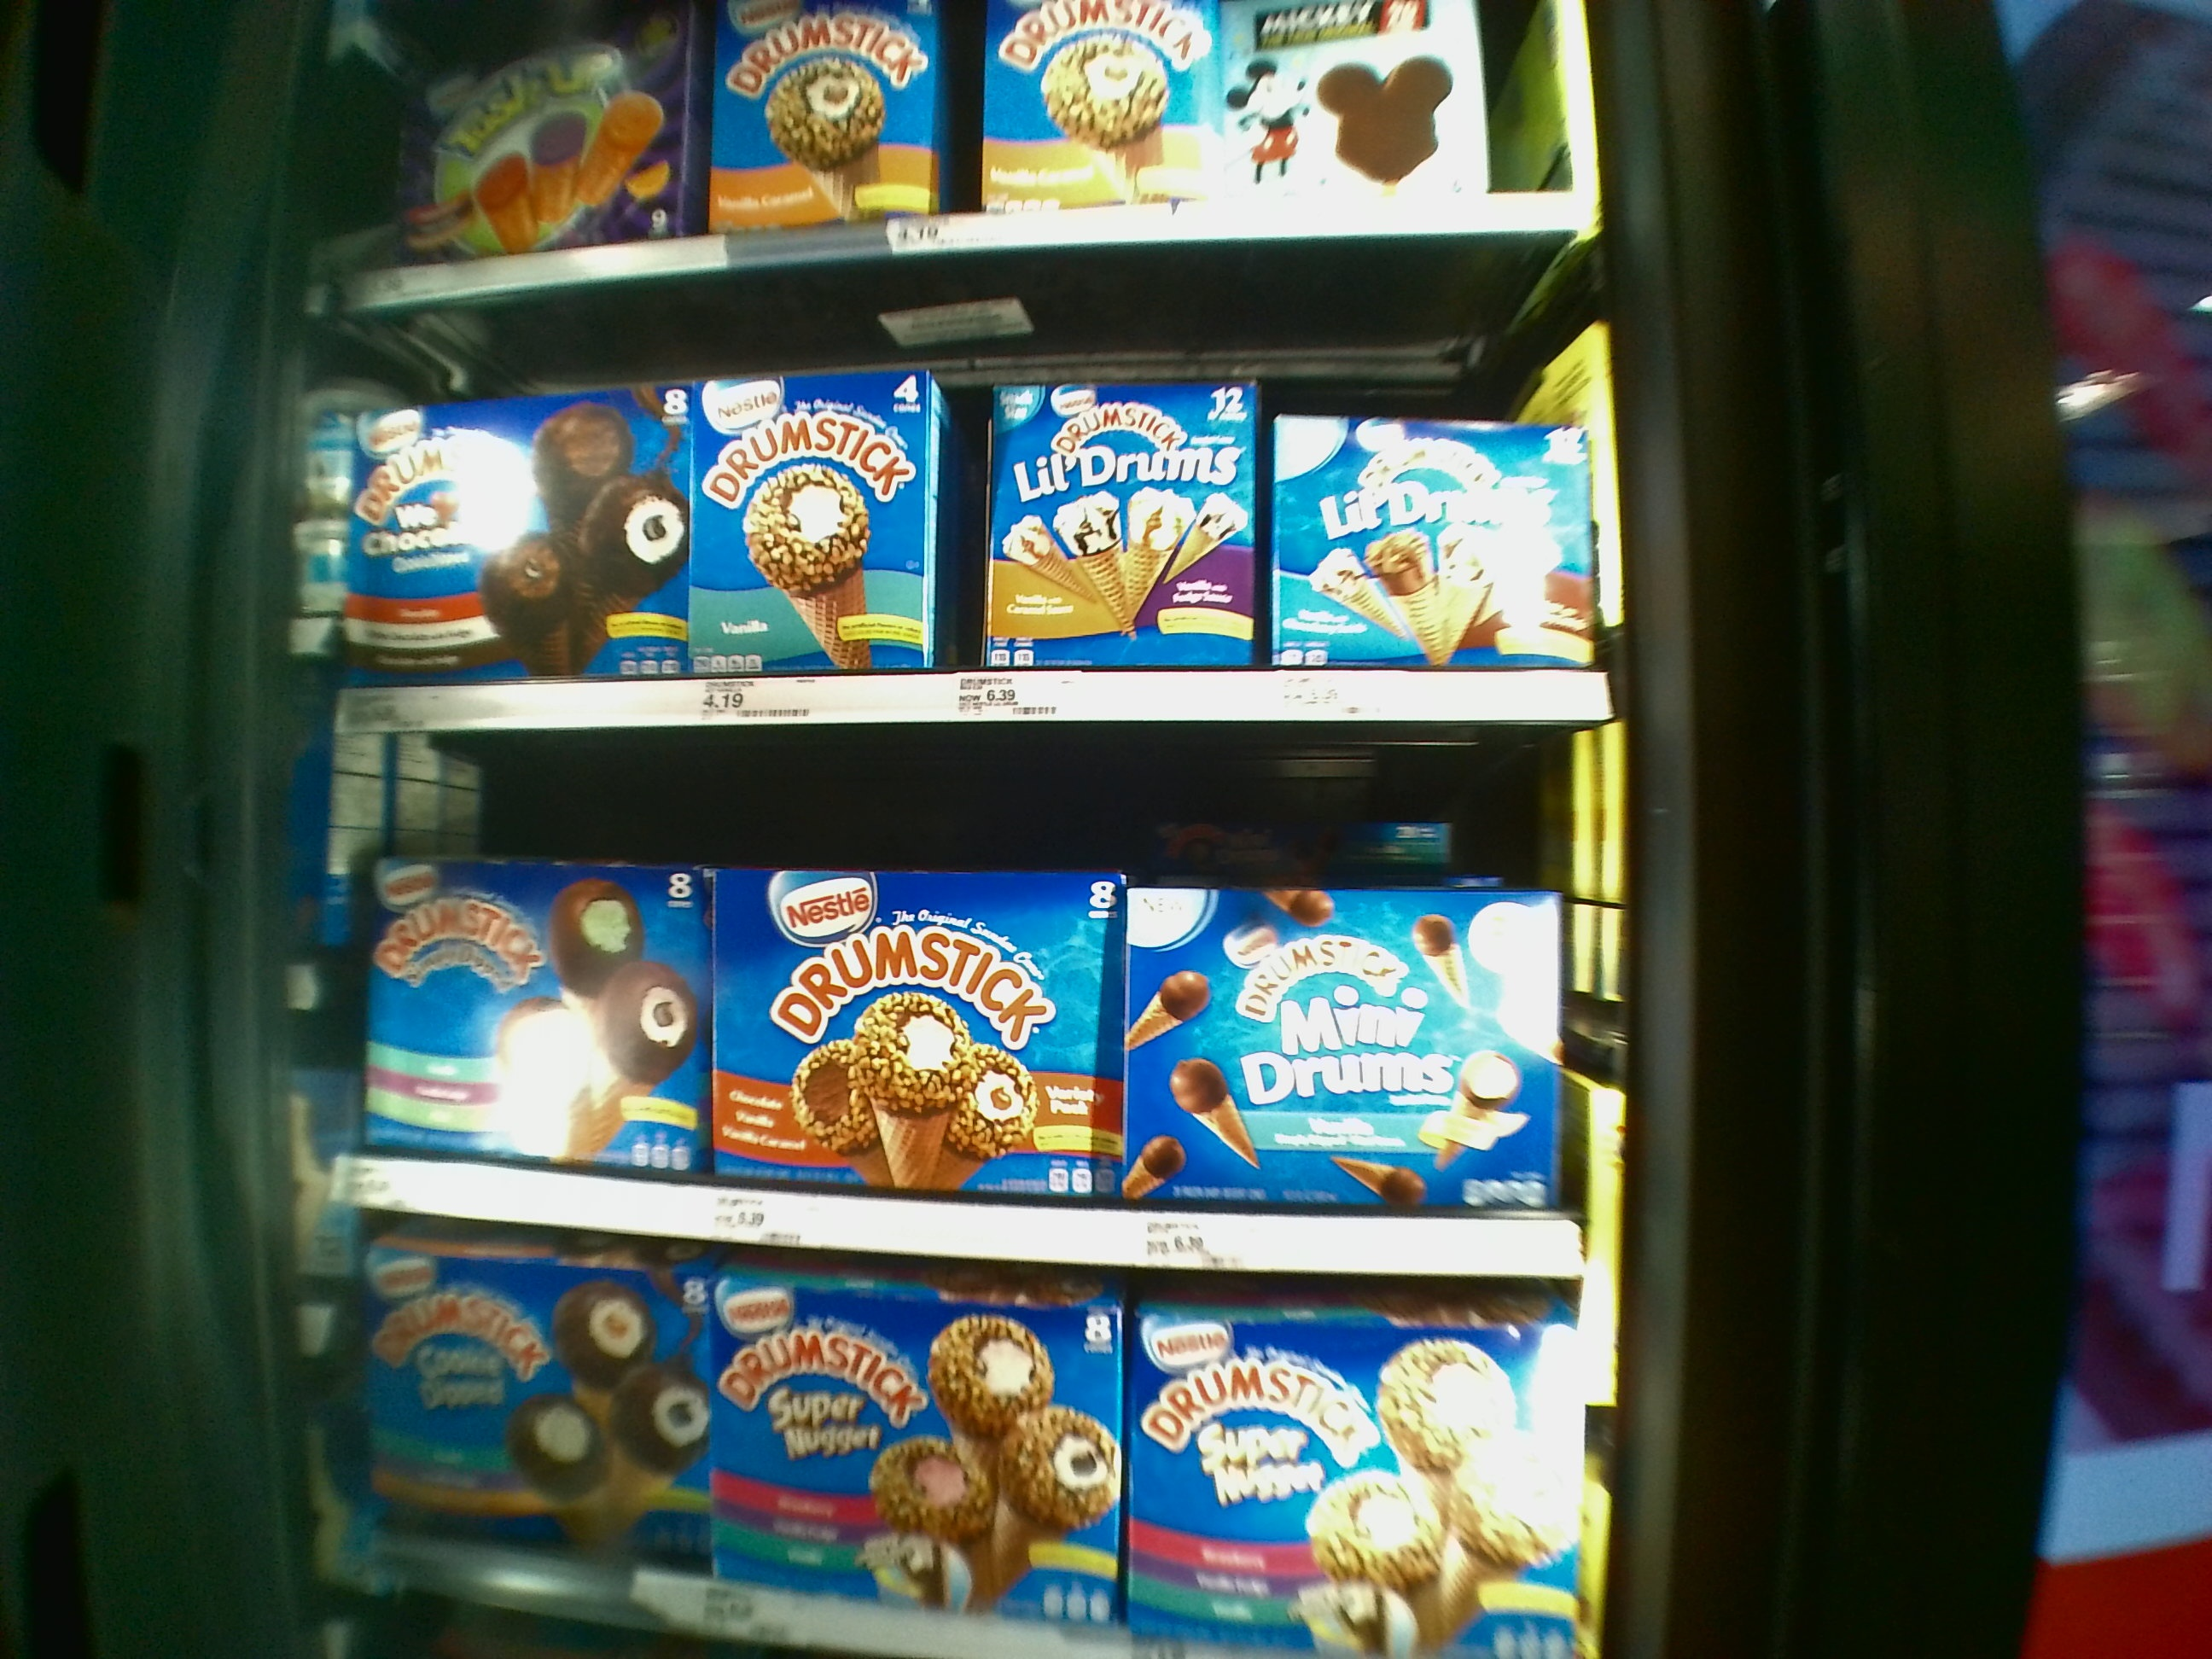shelf: (327, 730, 1623, 1274), (326, 284, 1602, 732), (340, 1256, 1611, 1659), (340, 3, 1599, 284)
